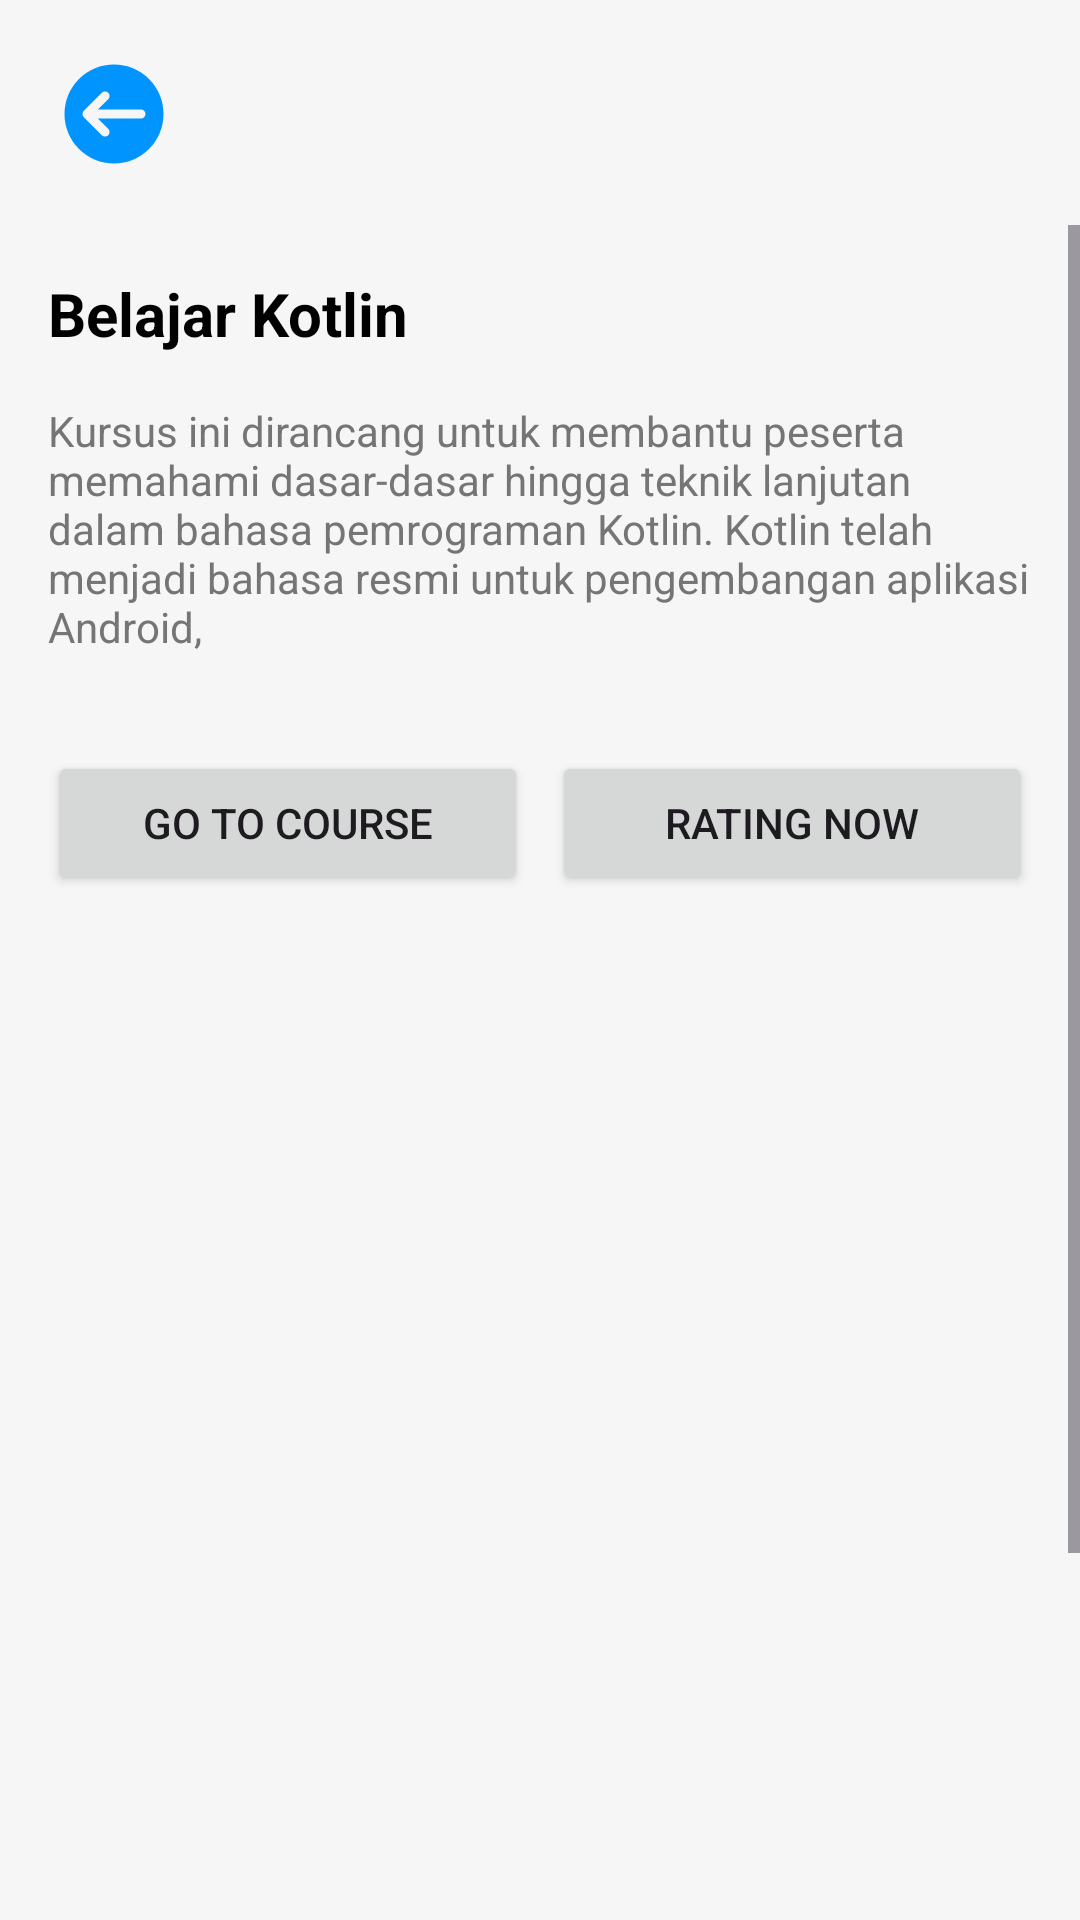

Screen size 1080*1920. Icon name, then its center in pixels as point (x, y):
vektor back: point (114, 114)
